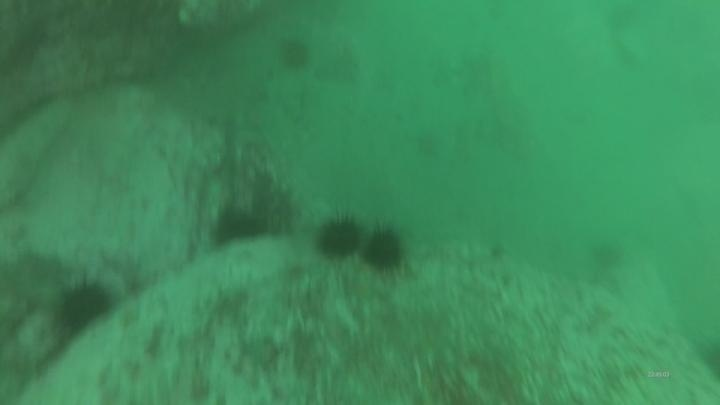echinus: (51, 275, 117, 338), (313, 210, 365, 262), (359, 222, 409, 276), (210, 205, 267, 250), (275, 34, 314, 73), (587, 237, 627, 272)
